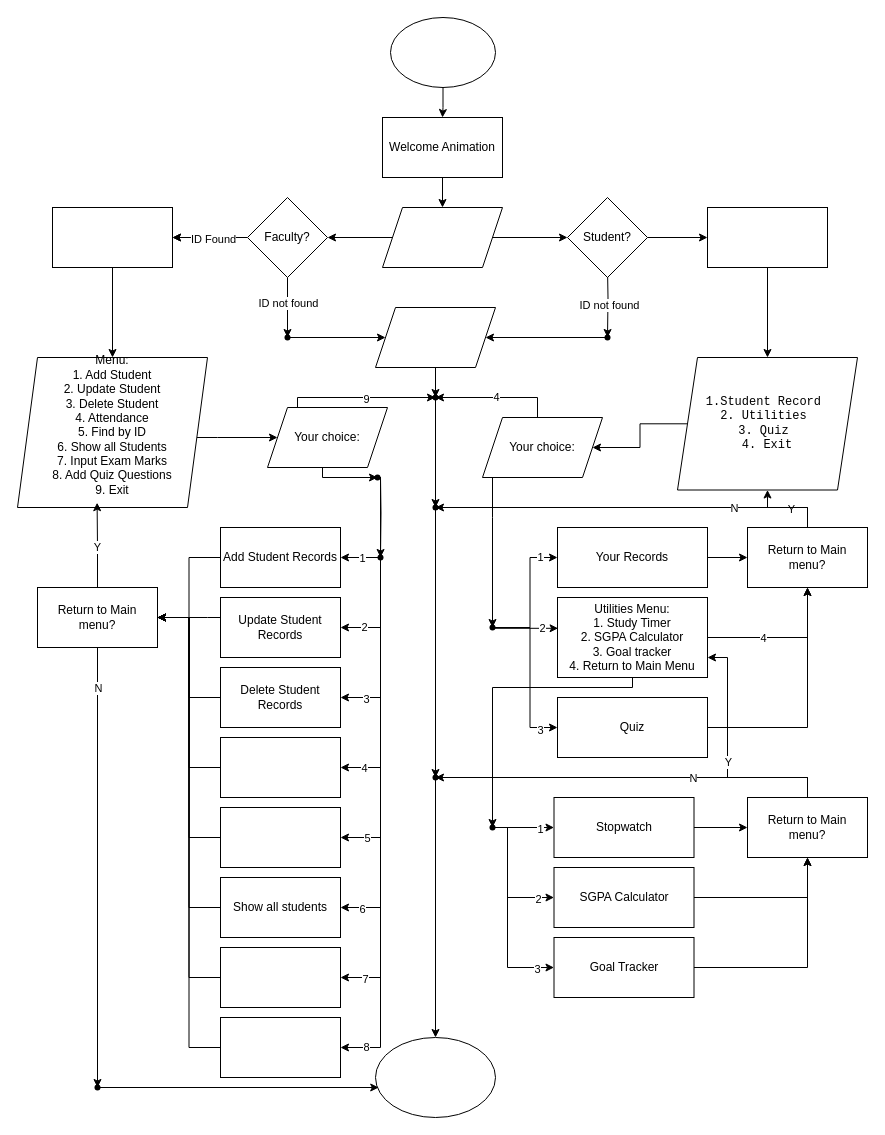
Some shapes in this 885 by 1135 pixel diagram are drawn without their labels. Here are the shapes that lost their labels. From the top down, the centre of each, then its label:
At pixel 443 52: "Start".
At pixel 112 237: "Teacher Portal".
At pixel 442 237: "Menu: What are you? 1. Faculty 2. Student".
At pixel 767 237: "Student Portal".
At pixel 435 337: "Access Denied".
At pixel 280 767: "Take Attendance".
At pixel 280 837: "Search Student Records by ID".
At pixel 280 977: "Input Marks".
At pixel 280 1047: "Add Quiz".
At pixel 435 1077: "END".
